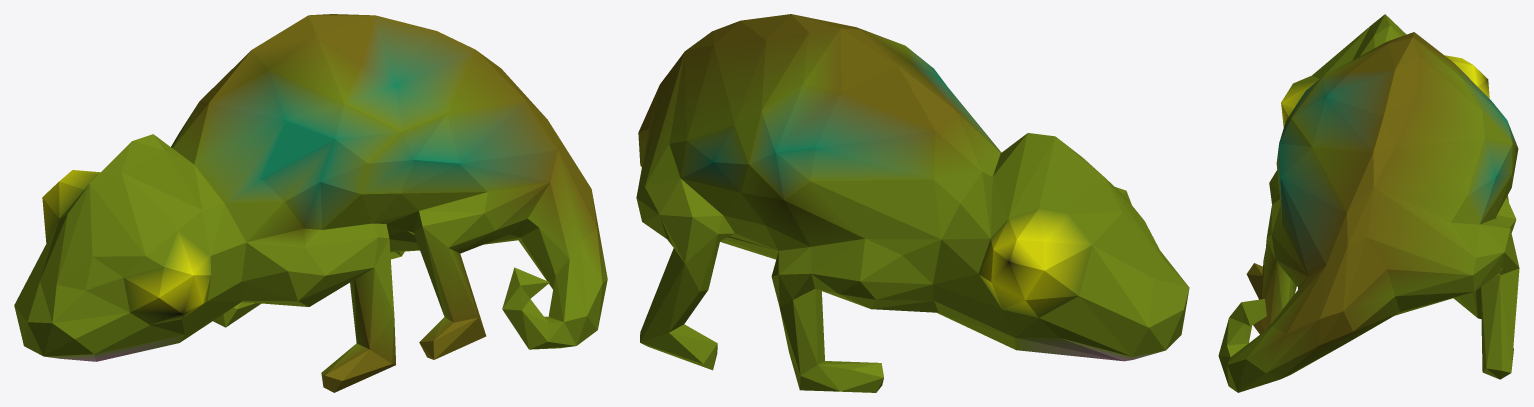
3 renders of one model, left to right at view 1: azimuth 30°, elevation 25°; view 2: azimuth 150°, elevation 25°; view 3: azimuth 270°, elevation 25°, orthographic. The views are drawn at different scales.
Parts seen in each view (by area): view 1: pasted__chameleon_1; view 2: pasted__chameleon_1; view 3: pasted__chameleon_1.
Part boxes in pixels (bbox=[...]): pasted__chameleon_1: bbox=[14, 14, 607, 392]; pasted__chameleon_1: bbox=[636, 14, 1189, 392]; pasted__chameleon_1: bbox=[1218, 14, 1519, 392].
Bounding box in the file's own units: 1252 × 698 × 660.
